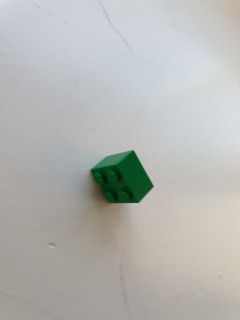2x2 green: (89, 149, 155, 204)
